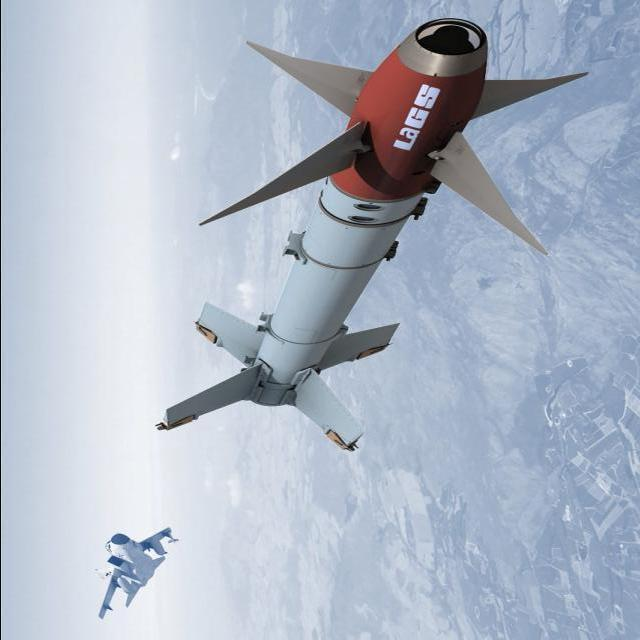missile: (157, 19, 586, 455)
